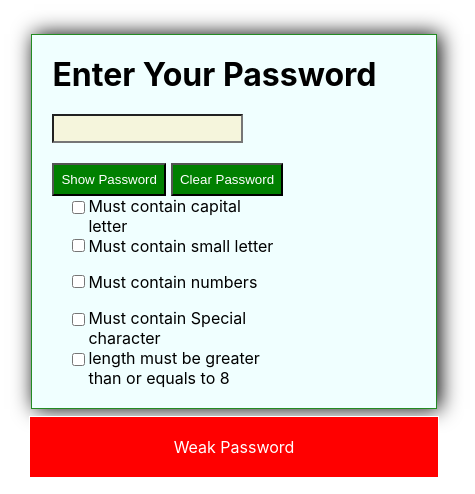
Test: PasswordChecker testing › it will show Hide Password button
The width and height of the screenshot is (475, 494).
Click the button "Show Password" at (109, 180), box [52,163,166,196]
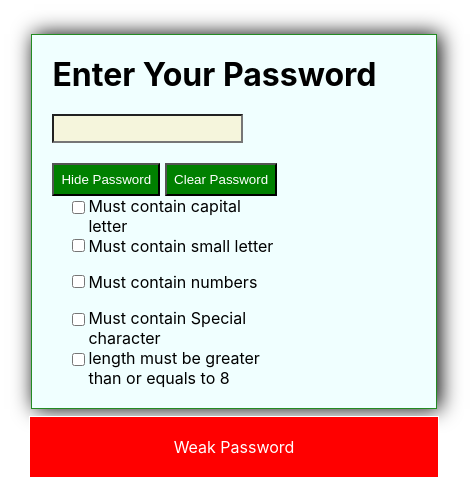
Now the button "Hide Password" is shown, box [52,163,160,196]
